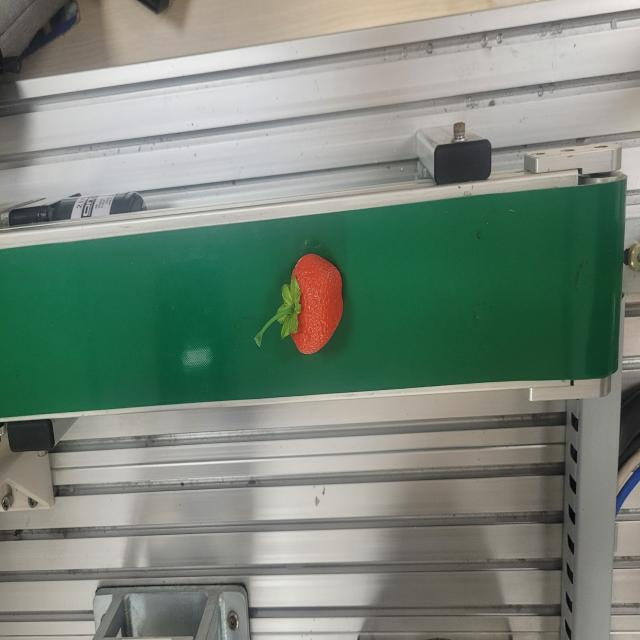Large Ripe Strawberry: (254, 250, 345, 357)
